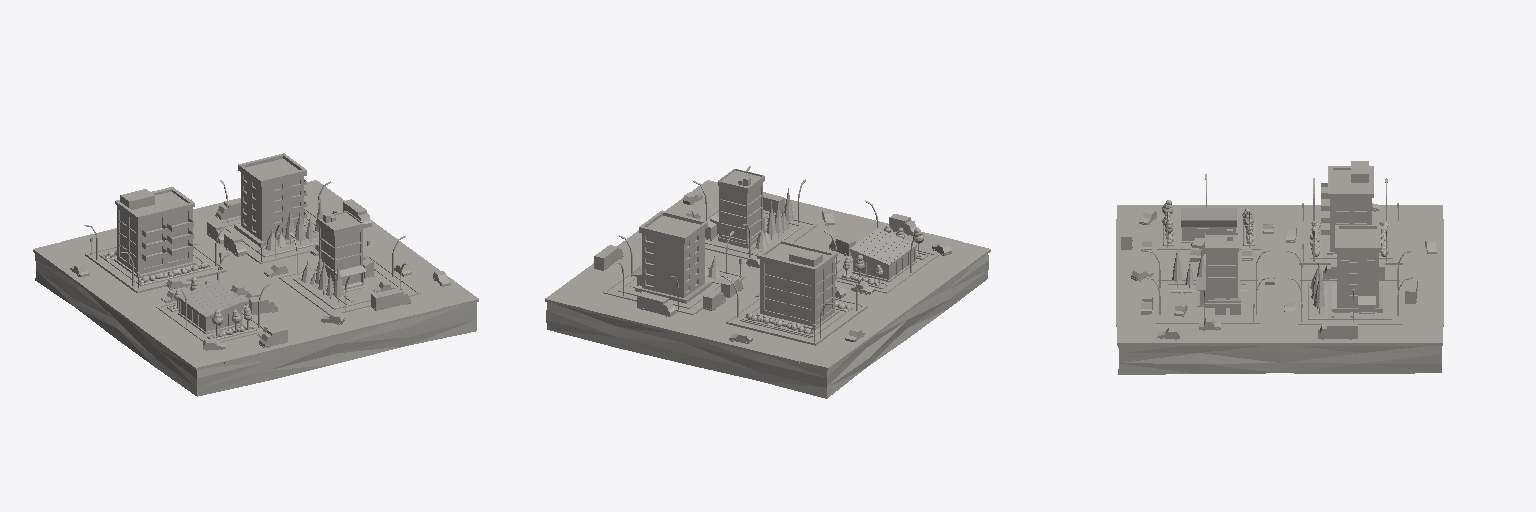
Rendered from lowpoly_city_triangulated.obj.
The picture shows the model from 3 angles: view 1: azimuth 30°, elevation 25°; view 2: azimuth 150°, elevation 25°; view 3: azimuth 270°, elevation 25°; orthographic projection.
Visible parts, largest first — view 1: ROAD, Floor_4, House, House_1, House_2, Shop, Floor, Floor_2, Floor.4_3, Floor.4_2, ROAD.Lines.12, Car_08.5 (+1 smaller); view 2: ROAD, Floor_4, House, House_1, House_2, Shop, Floor, Floor.4_3, Floor_1, Car_08.3, Floor_2, ROAD.Lines.12; view 3: ROAD, Floor_4, House_1, House, House_2, Shop, Floor_2, Floor.4_2, Floor, Floor_1, ROAD.Lines.12, Floor.4_3 (+2 smaller).
Boxes of the visible parts, x1,y1,x2,y2 form: ROAD: [33, 180, 478, 369]; Floor_4: [35, 253, 476, 396]; House: [114, 187, 197, 277]; House_1: [234, 153, 306, 246]; House_2: [317, 211, 366, 292]; Shop: [178, 280, 244, 333]; Floor: [85, 245, 226, 293]; Floor_2: [279, 255, 420, 314]; Floor.4_3: [156, 302, 263, 342]; Floor.4_2: [293, 268, 405, 309]; ROAD.Lines.12: [74, 200, 432, 349]; Car_08.5: [371, 288, 411, 310]; ROAD: [545, 180, 990, 369]; Floor_4: [546, 254, 988, 398]; House: [755, 239, 838, 329]; House_1: [630, 210, 711, 303]; House_2: [718, 169, 767, 248]; Shop: [850, 228, 916, 281]; Floor: [726, 297, 867, 345]; Floor.4_3: [835, 249, 938, 293]; Floor_1: [603, 264, 744, 314]; Car_08.3: [637, 291, 676, 316]; Floor_2: [704, 209, 816, 258]; ROAD.Lines.12: [587, 203, 954, 352]; ROAD: [1116, 205, 1443, 345]; Floor_4: [1118, 346, 1441, 374]; House_1: [1332, 225, 1382, 316]; House: [1321, 161, 1373, 255]; House_2: [1196, 229, 1238, 307]; Shop: [1181, 208, 1236, 242]; Floor_2: [1156, 279, 1259, 323]; Floor.4_2: [1167, 283, 1249, 318]; Floor: [1299, 219, 1402, 264]; Floor_1: [1298, 280, 1401, 324]; ROAD.Lines.12: [1137, 212, 1422, 332]; Floor.4_3: [1157, 220, 1260, 249].
Size of the model in its own units: 2192 by 744 by 2192.